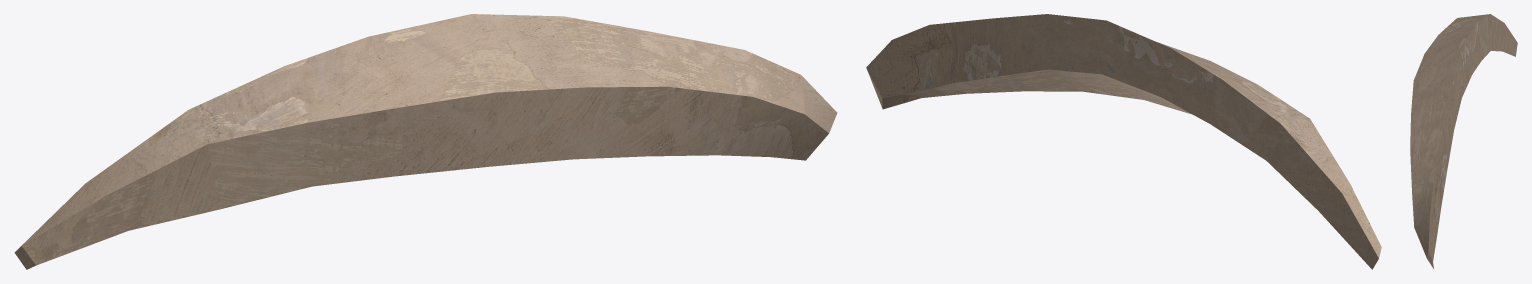
Rendered from eyebrow-L.fbx.
3 renders of one model, left to right at view 1: azimuth 30°, elevation 25°; view 2: azimuth 150°, elevation 25°; view 3: azimuth 270°, elevation 25°, orthographic. The views are drawn at different scales.
Visible parts, largest first — view 1: eyebrow-L; view 2: eyebrow-L; view 3: eyebrow-L.
Boxes of the visible parts, left/top/right/bottom form: eyebrow-L: left=14, top=14, right=837, bottom=269; eyebrow-L: left=866, top=14, right=1381, bottom=269; eyebrow-L: left=1410, top=14, right=1517, bottom=268.
Size of the model in its own units: 3.98 by 1.06 by 0.8383.
